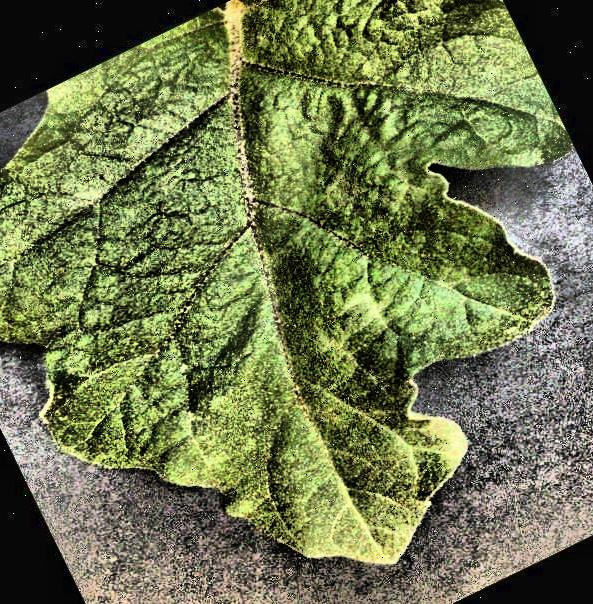HEALTHY: (1, 0, 593, 604)
